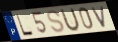0: (79, 6, 95, 31)
5: (31, 12, 49, 36)
L: (15, 14, 36, 37)
S: (46, 10, 66, 34)
U: (60, 7, 81, 34)
V: (91, 5, 108, 29)
